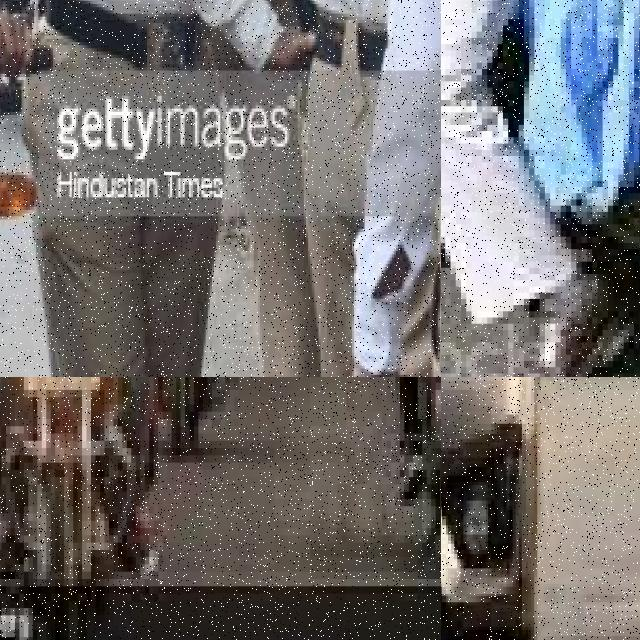bike: (441, 0, 640, 299), (0, 377, 135, 601), (0, 0, 46, 377), (400, 377, 441, 579), (153, 377, 238, 455)
car: (441, 377, 546, 640)
